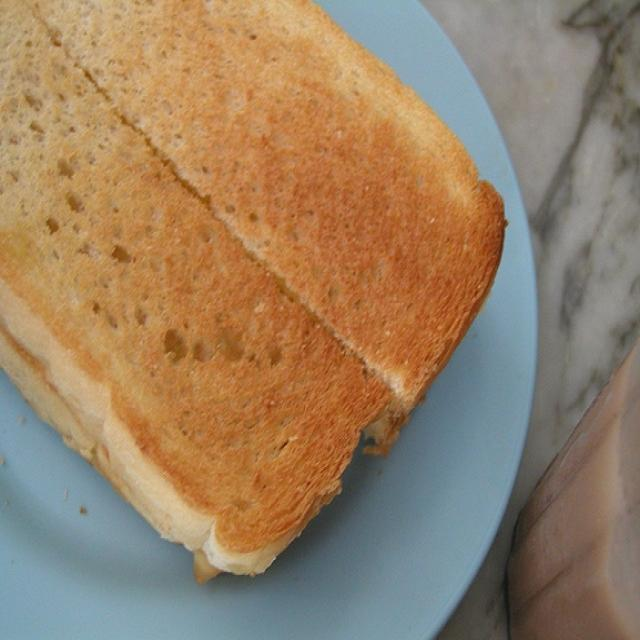面包点心: (3, 2, 556, 637)
